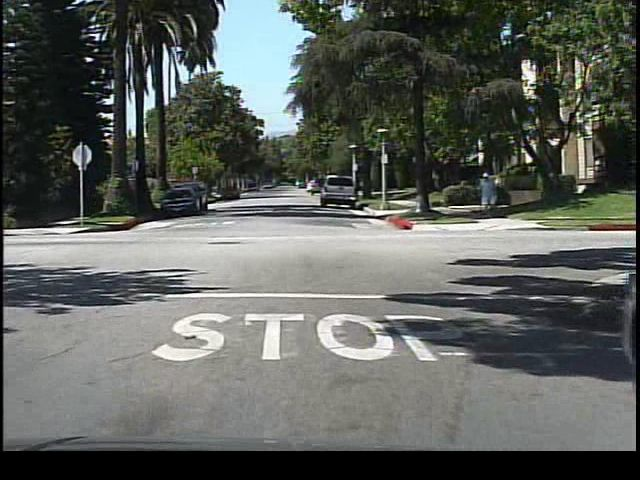person: (476, 168, 499, 218)
